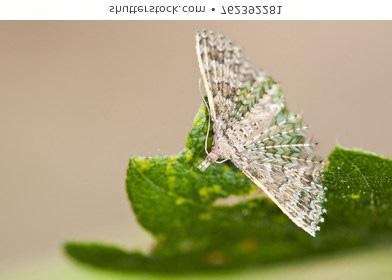Alucitidae: (192, 24, 329, 240)
moth: (194, 26, 331, 242)
